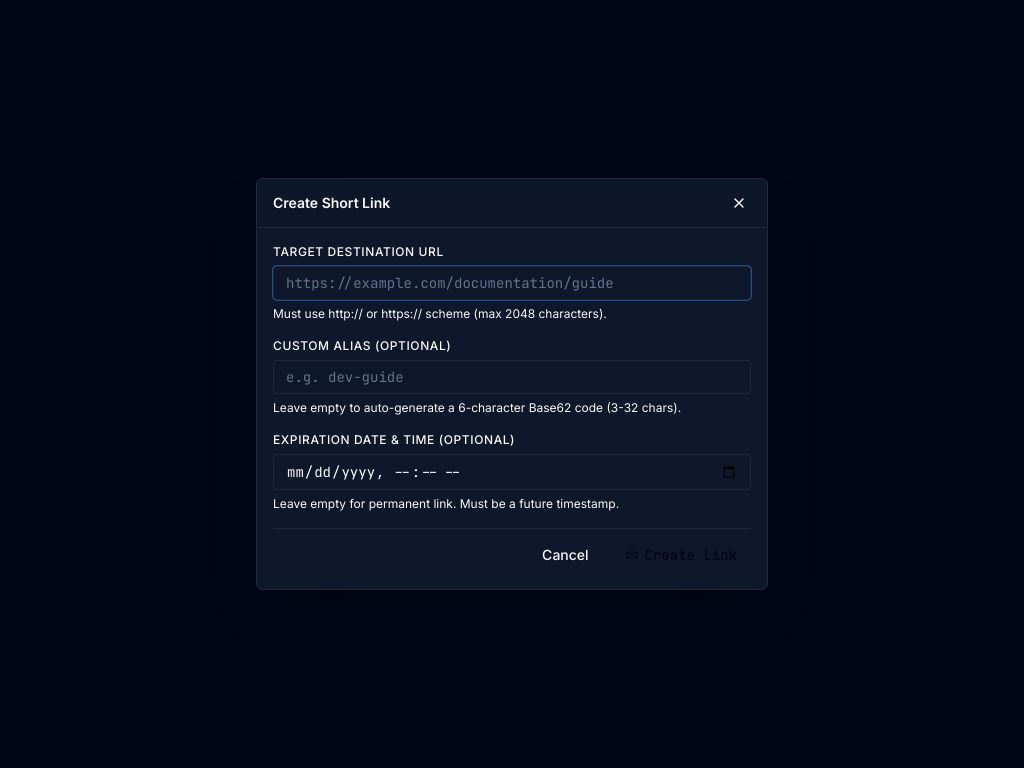
CreateLinkModal Component Tests › submits valid data to linksApi.create and displays success screen
The image size is (1024, 768).
Step 1. Type "https://example.com/target" into the field labelled "Target Destination URL" → (512, 283), box [273,266,751,300]
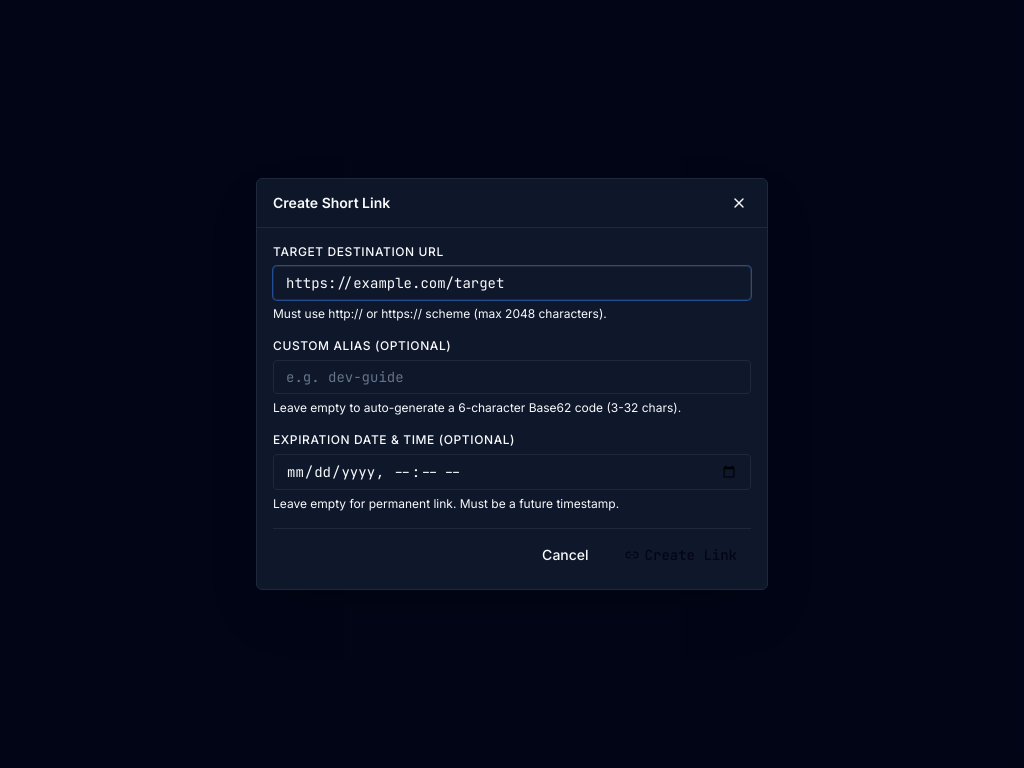
Step 2. Submit the form labelled "Target Destination URL", box [273,244,751,573]
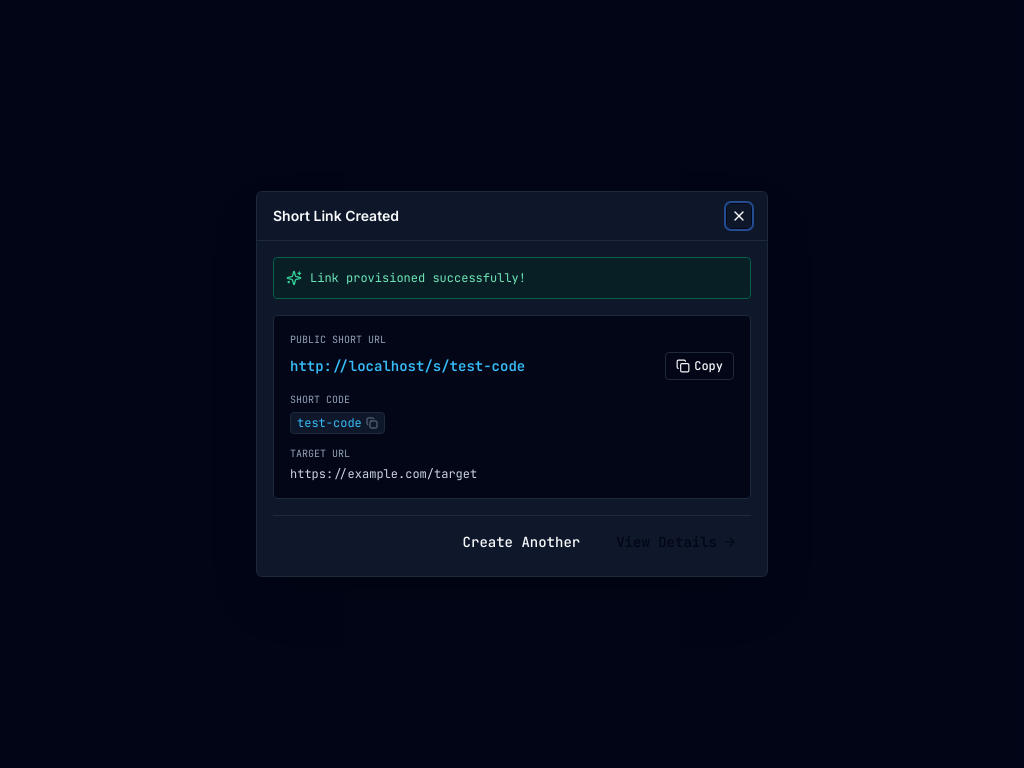
Now the text "Link provisioned successfully!" is shown, box [310,270,526,286]
Now the text "test-code" is shown, box [297,415,362,431]
